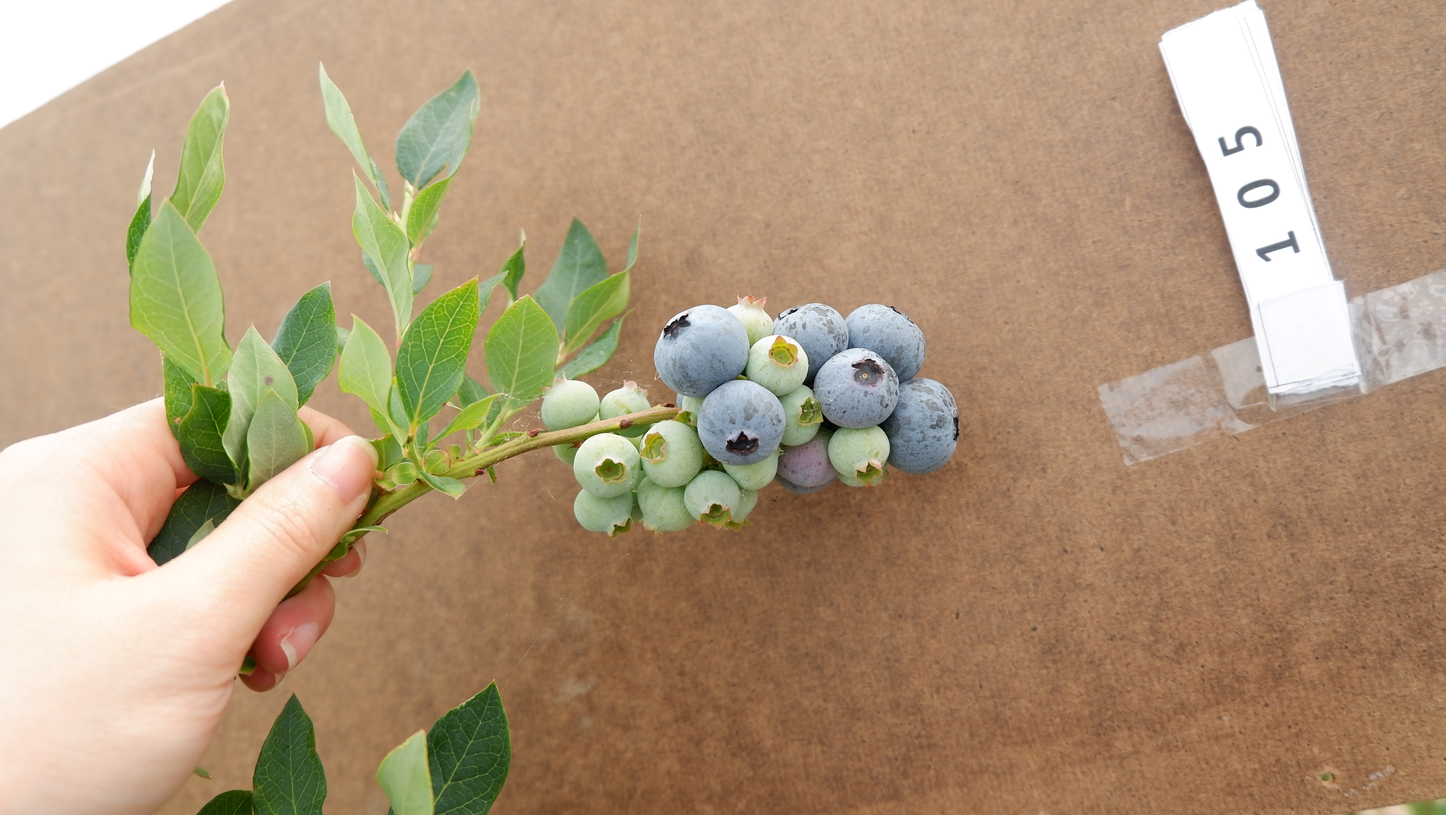Immature: (573, 433, 641, 499), (639, 419, 703, 486), (746, 335, 809, 396), (828, 425, 890, 486), (776, 426, 839, 485), (637, 476, 696, 537), (541, 371, 600, 431), (599, 380, 658, 438), (684, 470, 741, 529), (551, 411, 608, 466), (573, 488, 634, 539), (777, 384, 823, 446), (722, 446, 781, 490), (726, 294, 774, 348), (722, 485, 758, 533), (774, 472, 839, 495), (836, 462, 892, 488), (672, 395, 707, 434), (630, 469, 647, 520)
Mature: (653, 305, 750, 398), (877, 378, 959, 475), (698, 379, 786, 466), (814, 348, 899, 429), (845, 304, 926, 383), (773, 303, 849, 380), (676, 393, 685, 408)
